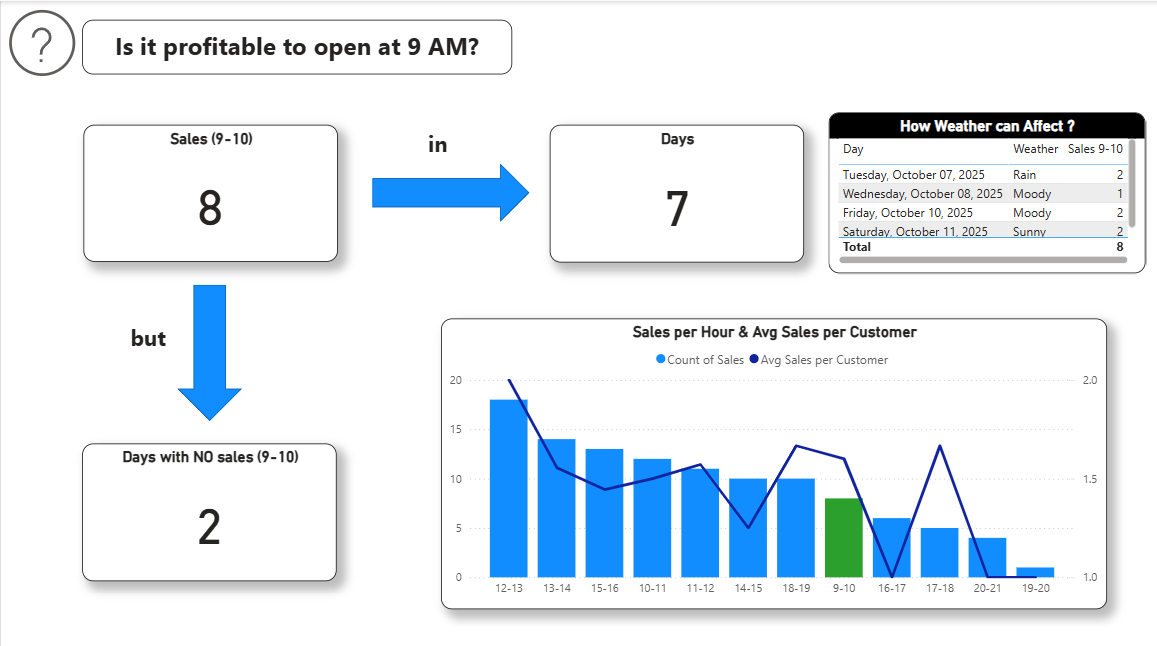

What the dashboard file says about the page in this screenshot:
{"tool":"powerbi","page":{"name":"Does it worth it? ","canvas":[1280,720],"ordinal":4},"visuals":[{"type":"actionButton","box":[0,0,90.5,91.7],"z":0},{"type":"textbox","box":[89.8,20,471.8,59.9],"z":1000},{"type":"card","title":"Sales (9-10)","fields":{"Values":["CountNonNull(retail v_sales_fct.sales_id)"]},"box":[90.5,135.7,278.8,150.4],"z":2000},{"type":"card","title":"Days","fields":{"Values":["Count(retail v_sales_fct.day)"]},"box":[602.9,135.4,279.4,151.1],"z":3000},{"type":"shape","box":[193.9,312.2,71.3,149.7],"z":4000},{"type":"textbox","box":[463.3,135.4,61.3,42.8],"z":5000},{"type":"card","title":"Days with NO sales (9-10)","fields":{"Values":["retail v_sales_fct.DaysWithNoSales_9to10"]},"box":[89.8,486.1,279.4,151.1],"z":6000},{"type":"shape","box":[407.7,178.2,172.5,64.1],"z":7000},{"type":"textbox","box":[136.8,349.2,57,48.5],"z":8000},{"type":"tableEx","title":"How Weather can Affect ? ","fields":{"Values":["retail v_sales_fct.day","retail v_sales_fct.weather","retail v_sales_fct.Sales_9to10"]},"box":[908,122.6,347.8,176.7],"z":9000},{"type":"lineClusteredColumnComboChart","title":"Sales per Hour & Avg Sales per Customer ","fields":{"Category":["retail v_sales_fct.time_range"],"Y":["CountNonNull(retail v_sales_fct.sales_id)"],"Y2":["retail v_sales_fct.Avg Sales per Customer"]},"box":[483.2,349.2,731.2,319.3],"z":10000}]}

Visuals, with their boxes in screenshot pixels (x1, y1, x2, y2), scaled from the page's 1280x720 canvas onto the 1157x646 screenshot:
actionButton: left=0, top=0, right=82, bottom=82
textbox: left=81, top=18, right=508, bottom=72
"Sales (9-10)" card: left=82, top=122, right=334, bottom=257
"Days" card: left=545, top=121, right=798, bottom=257
shape: left=175, top=280, right=240, bottom=414
textbox: left=419, top=121, right=474, bottom=160
"Days with NO sales (9-10)" card: left=81, top=436, right=334, bottom=572
shape: left=369, top=160, right=524, bottom=217
textbox: left=124, top=313, right=175, bottom=357
"How Weather can Affect ? " tableEx: left=821, top=110, right=1135, bottom=269
"Sales per Hour & Avg Sales per Customer " lineClusteredColumnComboChart: left=437, top=313, right=1098, bottom=600
